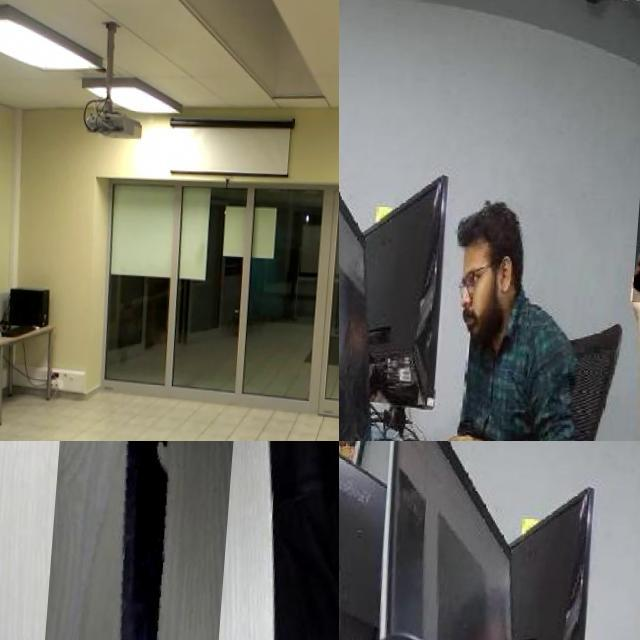-: (43, 441, 249, 640)
